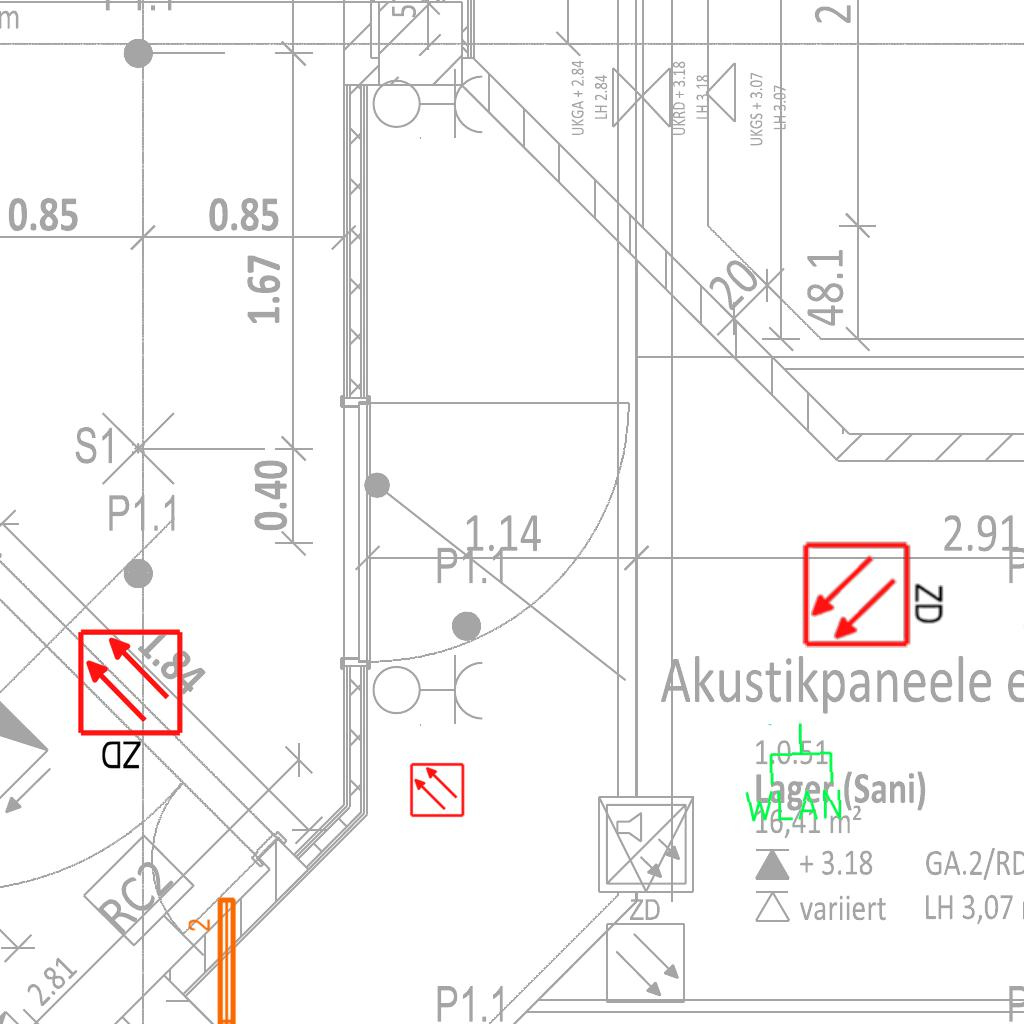Ambulanz_Pendelleuchte_LED: (186, 893, 242, 1024)
RMO_Rauchmelder_optischer: (409, 762, 465, 818)
WLAN: (737, 718, 847, 827)
ZD_Melder_in_Zwischendecke_mit_Revisionsoeffnung_mind_40_x_40_cm: (75, 627, 189, 776), (801, 536, 950, 650)
